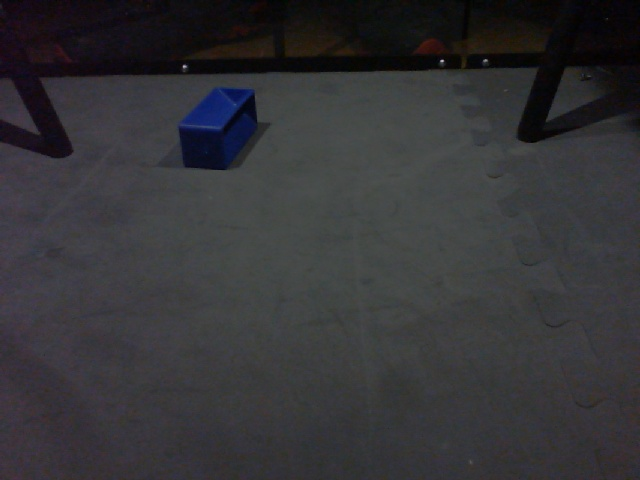BlueSample: (175, 83, 261, 175)
